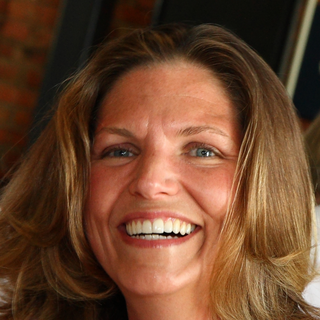eye: (182, 141, 227, 166), (99, 141, 144, 164)
